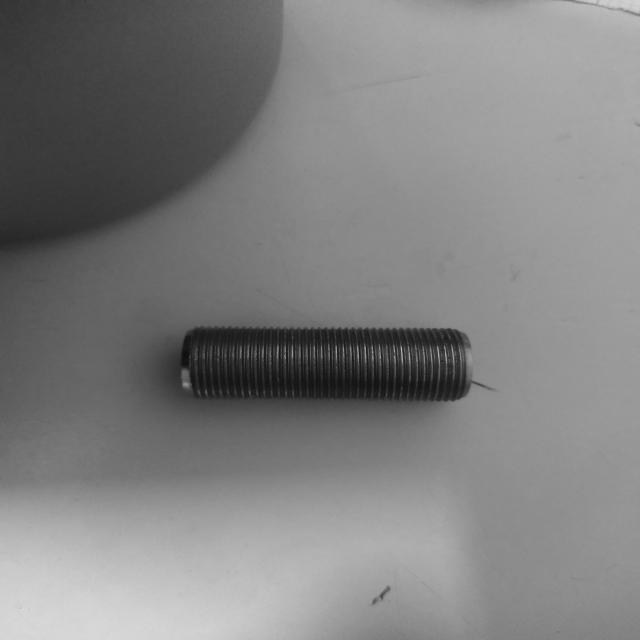Normal: (178, 324, 474, 404)
